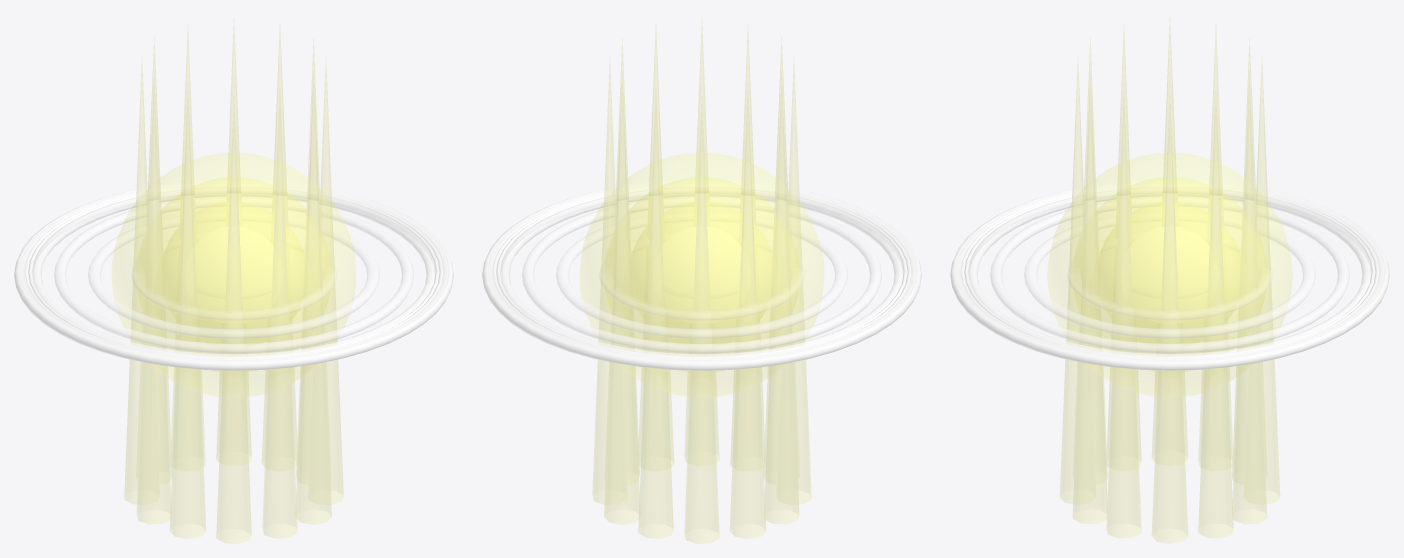
File: uuon-whitehole.glb
3 views of the same model, side by side, from view 1: azimuth 30°, elevation 25°; view 2: azimuth 150°, elevation 25°; view 3: azimuth 270°, elevation 25° (orthographic).
Parts seen in each view (by area): view 1: 7911d653-97d9-4dd3-b431-5a7a07d4afaa, 15cce9b7-6122-477f-89d0-f2ada087e302, 1a24cf4a-e6aa-43b5-adb7-17297ff1795c, 50f7324d-b86e-4e02-a403-d1bd51668c96, 96588d07-0954-4590-8fd7-bd30339f433a, 7ede51cd-5a02-4184-9150-0741723841fc, cba6e3ba-7cbc-400b-9fe1-b41ef1beef6d, 063930b5-9a6b-46d2-ac72-2231ba1ed4be, c22091ef-0876-47d5-83be-f0787fb2e6ed, 053447af-8f6c-4b03-8539-112e06c724ae, a72a5c43-2b42-4bc0-9bc4-068ef4802434, 3d2f1972-157a-4943-ad34-c9672f2c0433 (+13 smaller); view 2: 7911d653-97d9-4dd3-b431-5a7a07d4afaa, 15cce9b7-6122-477f-89d0-f2ada087e302, 1a24cf4a-e6aa-43b5-adb7-17297ff1795c, 50f7324d-b86e-4e02-a403-d1bd51668c96, 7262af33-7949-4ecf-9aab-d3317155e947, a72a5c43-2b42-4bc0-9bc4-068ef4802434, cba6e3ba-7cbc-400b-9fe1-b41ef1beef6d, 063930b5-9a6b-46d2-ac72-2231ba1ed4be, 25636187-82e7-4965-aa92-6eb7c7e8f8b1, bf6c0b92-f986-4698-8beb-a3ccd9196fb9, 7ede51cd-5a02-4184-9150-0741723841fc, e8f57427-33dd-4100-9faf-5dd76a3c48e2 (+13 smaller); view 3: 7911d653-97d9-4dd3-b431-5a7a07d4afaa, 15cce9b7-6122-477f-89d0-f2ada087e302, 1a24cf4a-e6aa-43b5-adb7-17297ff1795c, 50f7324d-b86e-4e02-a403-d1bd51668c96, d825ac1f-f488-4ab5-ba07-7117ac4430f4, 96588d07-0954-4590-8fd7-bd30339f433a, 7262af33-7949-4ecf-9aab-d3317155e947, 063930b5-9a6b-46d2-ac72-2231ba1ed4be, 3d2f1972-157a-4943-ad34-c9672f2c0433, e8f57427-33dd-4100-9faf-5dd76a3c48e2, c22091ef-0876-47d5-83be-f0787fb2e6ed, 25636187-82e7-4965-aa92-6eb7c7e8f8b1 (+13 smaller).
Boxes of the visible parts, bbox=[...] form: 7911d653-97d9-4dd3-b431-5a7a07d4afaa: bbox=[112, 153, 355, 396]; 15cce9b7-6122-477f-89d0-f2ada087e302: bbox=[137, 177, 331, 371]; 1a24cf4a-e6aa-43b5-adb7-17297ff1795c: bbox=[162, 202, 305, 343]; 50f7324d-b86e-4e02-a403-d1bd51668c96: bbox=[54, 197, 413, 353]; 96588d07-0954-4590-8fd7-bd30339f433a: bbox=[295, 76, 331, 524]; 7ede51cd-5a02-4184-9150-0741723841fc: bbox=[169, 91, 206, 538]; cba6e3ba-7cbc-400b-9fe1-b41ef1beef6d: bbox=[136, 76, 171, 524]; 063930b5-9a6b-46d2-ac72-2231ba1ed4be: bbox=[185, 226, 282, 323]; c22091ef-0876-47d5-83be-f0787fb2e6ed: bbox=[262, 91, 297, 538]; 053447af-8f6c-4b03-8539-112e06c724ae: bbox=[216, 96, 251, 543]; a72a5c43-2b42-4bc0-9bc4-068ef4802434: bbox=[124, 57, 159, 504]; 3d2f1972-157a-4943-ad34-c9672f2c0433: bbox=[308, 57, 343, 504]; 7911d653-97d9-4dd3-b431-5a7a07d4afaa: bbox=[580, 153, 823, 396]; 15cce9b7-6122-477f-89d0-f2ada087e302: bbox=[604, 177, 798, 371]; 1a24cf4a-e6aa-43b5-adb7-17297ff1795c: bbox=[630, 202, 773, 343]; 50f7324d-b86e-4e02-a403-d1bd51668c96: bbox=[522, 197, 881, 353]; 7262af33-7949-4ecf-9aab-d3317155e947: bbox=[604, 76, 640, 524]; a72a5c43-2b42-4bc0-9bc4-068ef4802434: bbox=[729, 91, 766, 538]; cba6e3ba-7cbc-400b-9fe1-b41ef1beef6d: bbox=[764, 76, 799, 524]; 063930b5-9a6b-46d2-ac72-2231ba1ed4be: bbox=[653, 226, 750, 323]; 25636187-82e7-4965-aa92-6eb7c7e8f8b1: bbox=[638, 91, 673, 538]; bf6c0b92-f986-4698-8beb-a3ccd9196fb9: bbox=[684, 96, 719, 543]; 7ede51cd-5a02-4184-9150-0741723841fc: bbox=[776, 57, 811, 504]; e8f57427-33dd-4100-9faf-5dd76a3c48e2: bbox=[592, 57, 627, 504]; 7911d653-97d9-4dd3-b431-5a7a07d4afaa: bbox=[1048, 153, 1291, 395]; 15cce9b7-6122-477f-89d0-f2ada087e302: bbox=[1072, 177, 1267, 371]; 1a24cf4a-e6aa-43b5-adb7-17297ff1795c: bbox=[1098, 202, 1241, 342]; 50f7324d-b86e-4e02-a403-d1bd51668c96: bbox=[990, 197, 1349, 353]; d825ac1f-f488-4ab5-ba07-7117ac4430f4: bbox=[1151, 96, 1188, 543]; 96588d07-0954-4590-8fd7-bd30339f433a: bbox=[1072, 76, 1107, 524]; 7262af33-7949-4ecf-9aab-d3317155e947: bbox=[1232, 76, 1267, 524]; 063930b5-9a6b-46d2-ac72-2231ba1ed4be: bbox=[1121, 226, 1218, 323]; 3d2f1972-157a-4943-ad34-c9672f2c0433: bbox=[1106, 91, 1141, 538]; e8f57427-33dd-4100-9faf-5dd76a3c48e2: bbox=[1198, 91, 1233, 538]; c22091ef-0876-47d5-83be-f0787fb2e6ed: bbox=[1059, 56, 1095, 504]; 25636187-82e7-4965-aa92-6eb7c7e8f8b1: bbox=[1244, 56, 1280, 504].
Bounding box in the file's own units: 14.34 × 16 × 14.34.
